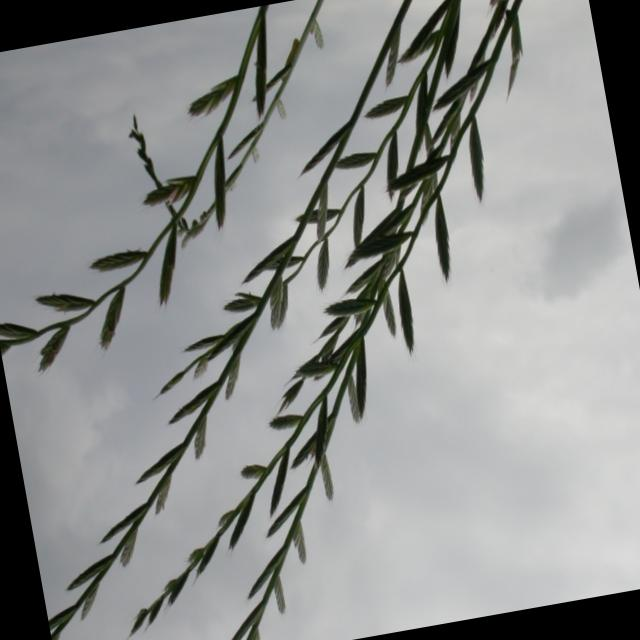Lolium: (0, 0, 640, 640), (127, 0, 607, 640)
